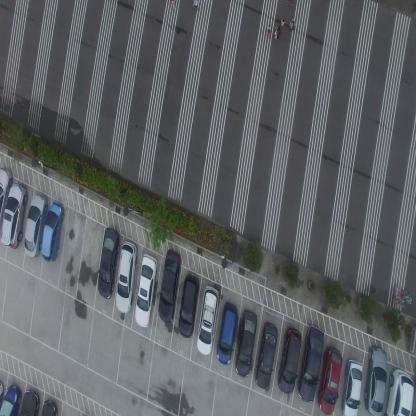car: (297, 324, 324, 403), (0, 183, 28, 250), (134, 253, 158, 329), (158, 248, 181, 323), (277, 325, 302, 394), (97, 226, 120, 300), (317, 347, 342, 415), (364, 346, 388, 416), (115, 242, 138, 314), (196, 284, 219, 355), (24, 192, 48, 260), (235, 308, 258, 378), (255, 321, 278, 389), (40, 200, 64, 262), (178, 273, 200, 338), (216, 300, 238, 364), (386, 368, 414, 415), (341, 358, 363, 416), (0, 164, 14, 232), (0, 382, 22, 415), (19, 389, 40, 415), (40, 398, 58, 416)
